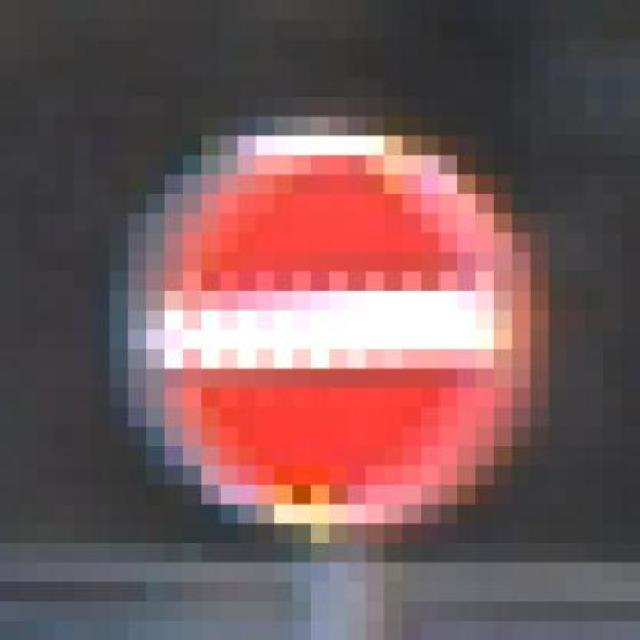B2: (126, 118, 542, 530)
